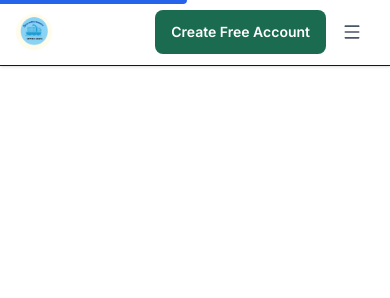
Accessibility Features › Header Navigation › should have accessible mobile menu button
Click the button named "open navigation menu" at (352, 32), box [330, 10, 374, 54]
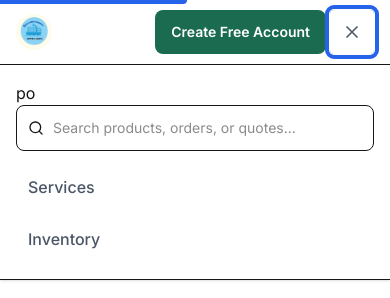
expect the button named "open navigation menu" is expanded: met, box [330, 10, 374, 54]
